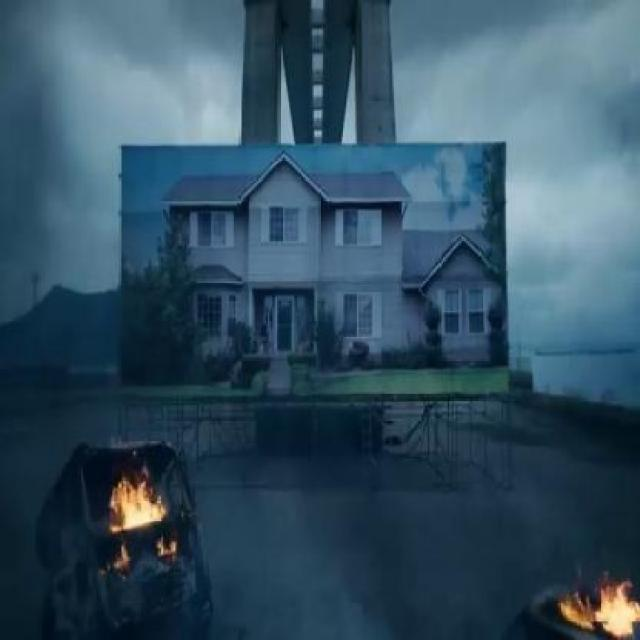fire: (99, 457, 179, 565), (557, 560, 640, 638)
smoke: (309, 424, 490, 640), (523, 363, 640, 551), (1, 9, 64, 229)
